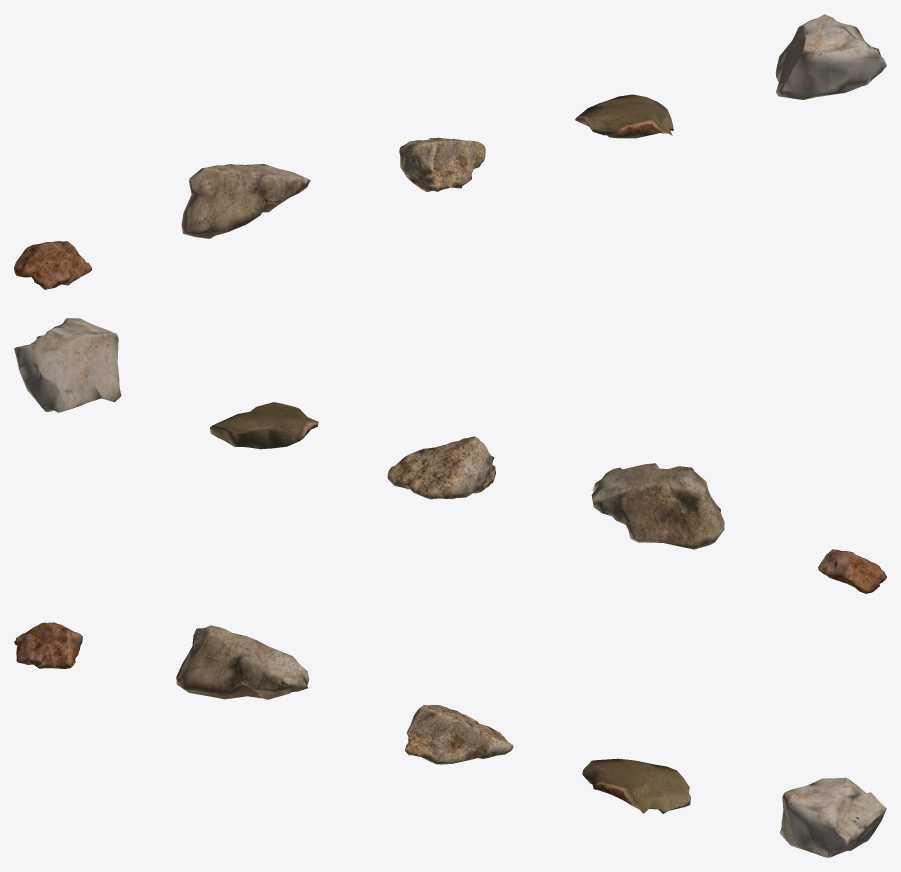
The model's file is namaqualand_stones_01.gltf.
The picture shows the model from 3 angles, top to bottom: view 1: azimuth 30°, elevation 25°; view 2: azimuth 150°, elevation 25°; view 3: azimuth 330°, elevation 25°; orthographic projection.
Visible parts, largest first — view 1: namaqualand_stones_01_e, namaqualand_stones_01_b, namaqualand_stones_01_c, namaqualand_stones_01_d, namaqualand_stones_01_a; view 2: namaqualand_stones_01_b, namaqualand_stones_01_e, namaqualand_stones_01_c, namaqualand_stones_01_d, namaqualand_stones_01_a; view 3: namaqualand_stones_01_b, namaqualand_stones_01_e, namaqualand_stones_01_c, namaqualand_stones_01_d, namaqualand_stones_01_a.
Boxes of the visible parts, x1,y1,x2,y2 form: namaqualand_stones_01_e: (775, 14, 886, 99); namaqualand_stones_01_b: (181, 164, 310, 238); namaqualand_stones_01_c: (399, 137, 485, 191); namaqualand_stones_01_d: (575, 94, 673, 138); namaqualand_stones_01_a: (14, 241, 91, 289); namaqualand_stones_01_b: (591, 463, 724, 549); namaqualand_stones_01_e: (14, 318, 121, 412); namaqualand_stones_01_c: (387, 436, 495, 499); namaqualand_stones_01_d: (210, 402, 318, 449); namaqualand_stones_01_a: (818, 549, 886, 593); namaqualand_stones_01_b: (176, 625, 309, 699); namaqualand_stones_01_e: (779, 777, 886, 857); namaqualand_stones_01_c: (405, 705, 513, 764); namaqualand_stones_01_d: (582, 758, 690, 813); namaqualand_stones_01_a: (14, 622, 82, 668).
Size of the model in its own units: 1.02 by 0.0816 by 0.1117.
Materials: 1 (1 with a texture image).
